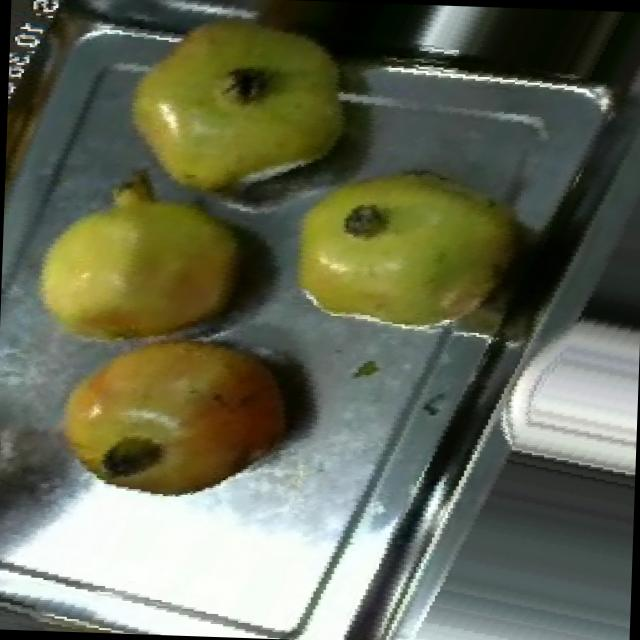fruit: (256, 134, 538, 371), (32, 304, 318, 530), (0, 141, 271, 376)
